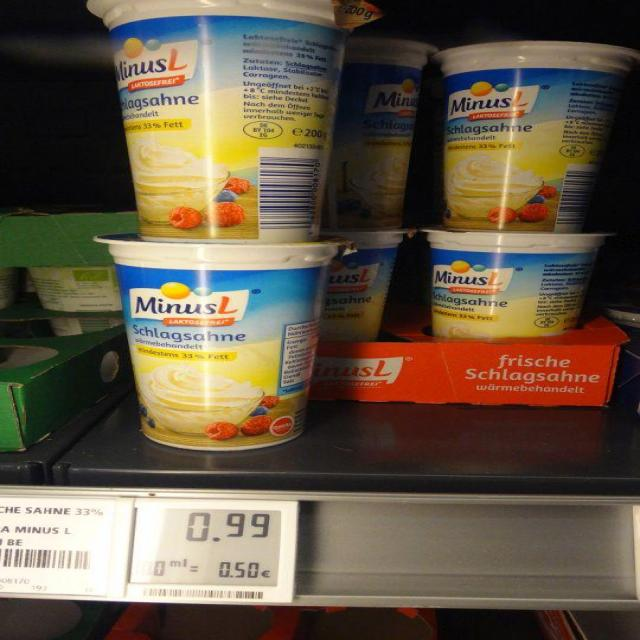Cream: (88, 0, 379, 243), (96, 235, 352, 451), (435, 41, 638, 232), (325, 37, 436, 229), (425, 230, 604, 339), (320, 229, 415, 342), (28, 267, 124, 336)
